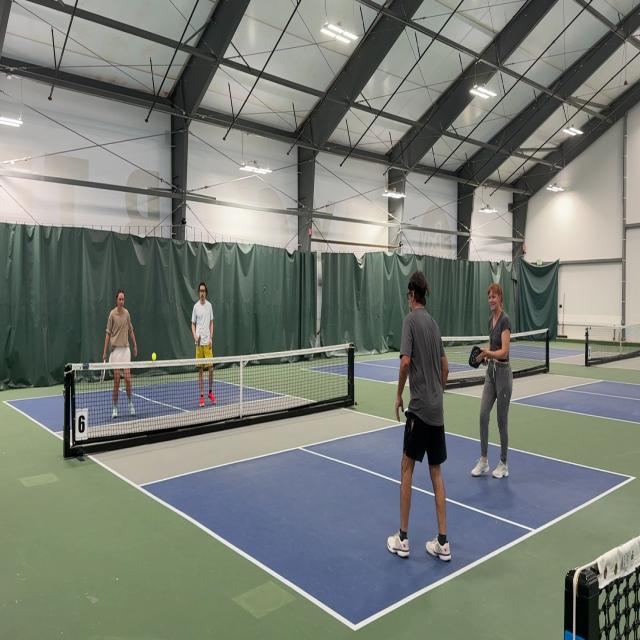ball: (151, 352, 157, 362)
